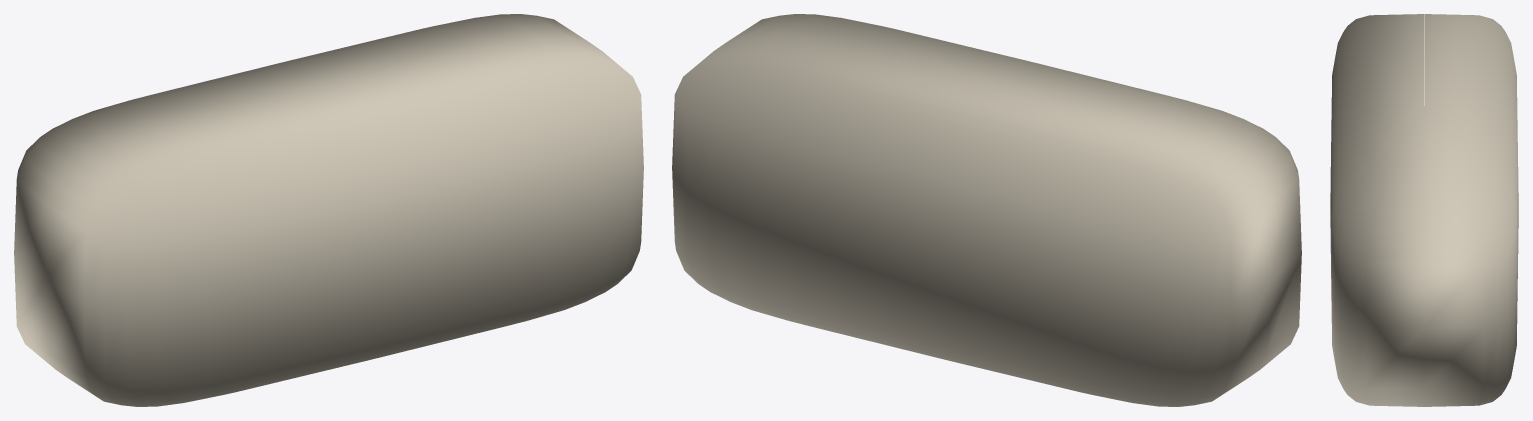
File: vidaxl-outdoor-3206372-g2-proxy.glb
The picture shows the model from 3 angles, left to right: view 1: azimuth 30°, elevation 25°; view 2: azimuth 150°, elevation 25°; view 3: azimuth 270°, elevation 25°; orthographic projection. The views are drawn at different scales.
Visible parts, largest first — view 1: proxy_body; view 2: proxy_body; view 3: proxy_body.
Boxes of the visible parts, x1,y1,x2,y2 form: proxy_body: [14, 14, 643, 406]; proxy_body: [672, 14, 1301, 406]; proxy_body: [1330, 14, 1518, 406].
Bounding box in the file's own units: 2 × 0.83 × 0.68.
